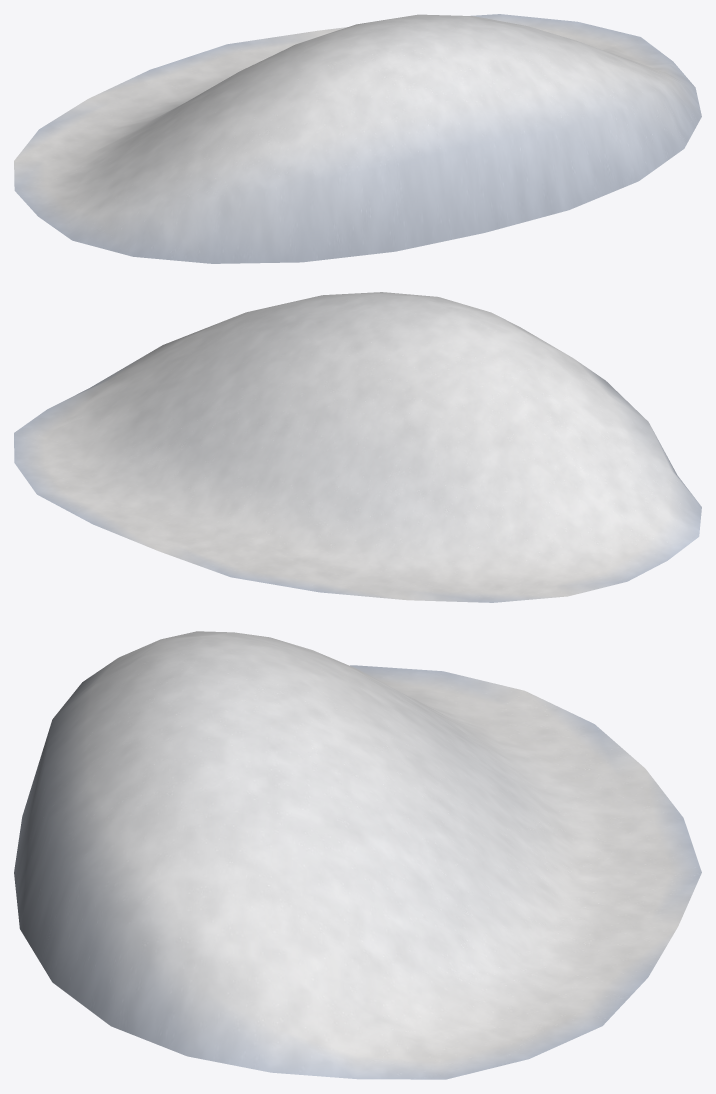
File: fm_snowdrift_low_b.glb
3 views of the same model, one above another, from view 1: azimuth 30°, elevation 25°; view 2: azimuth 150°, elevation 25°; view 3: azimuth 270°, elevation 25° (orthographic). The views are drawn at different scales.
Parts seen in each view (by area): view 1: fm_snowdrift_low_b; view 2: fm_snowdrift_low_b; view 3: fm_snowdrift_low_b.
Part boxes in pixels (x1,y1,x2,y2): fm_snowdrift_low_b: (14,14,701,263); fm_snowdrift_low_b: (14,292,701,602); fm_snowdrift_low_b: (14,631,701,1079).
Size of the model in its own units: 1.65 by 0.3558 by 1.15.
1 material, 1 textured.
